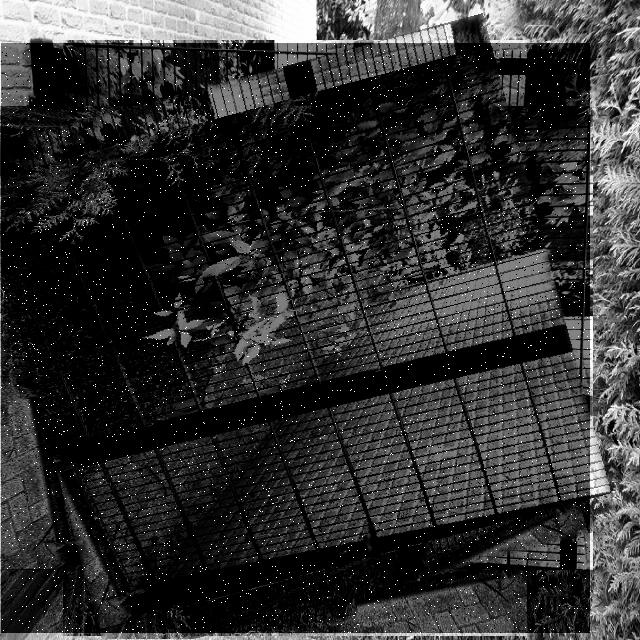fences: (1, 43, 590, 633)
